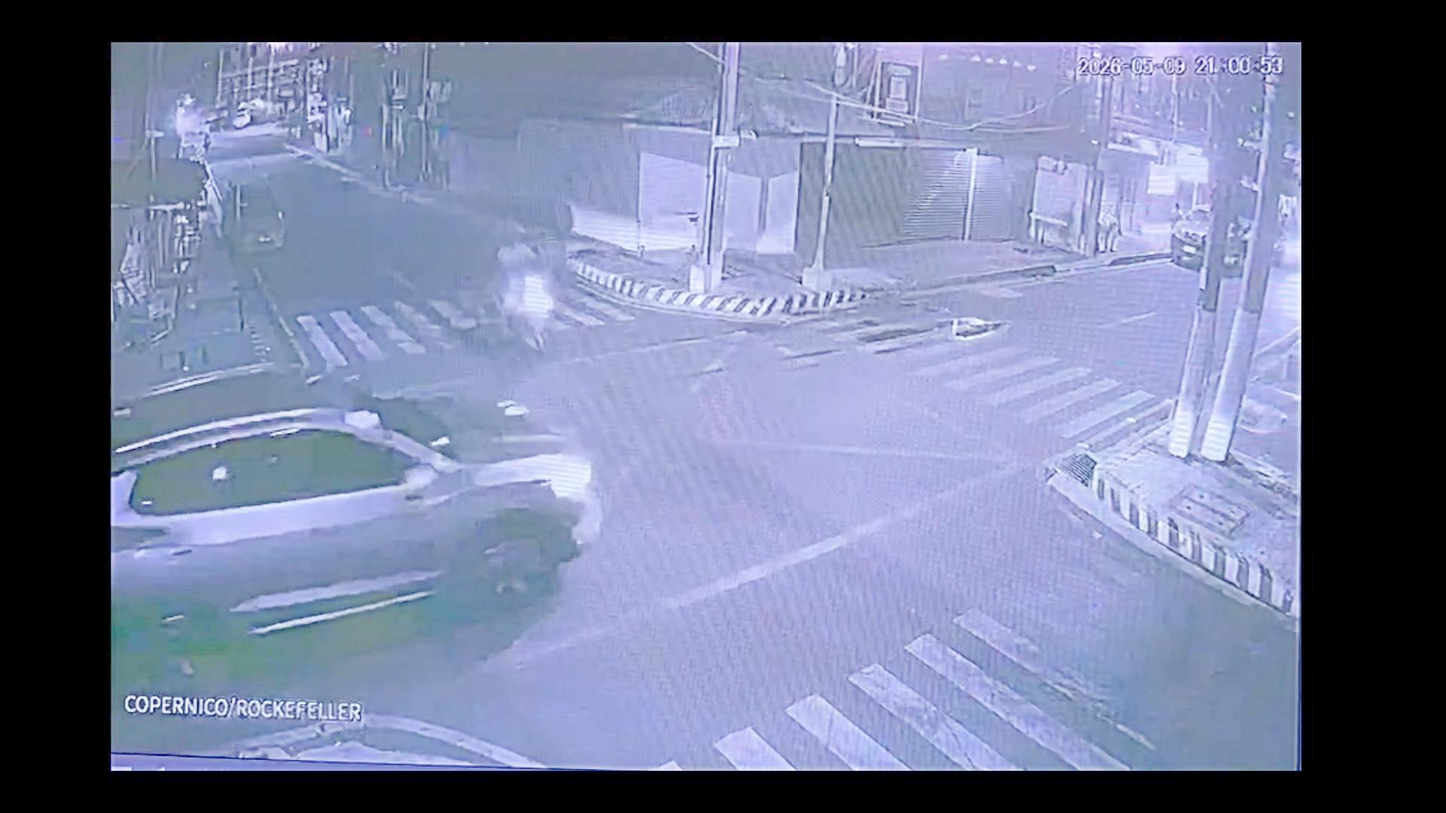Car: (119, 386, 585, 615)
Motor: (491, 219, 564, 350)
